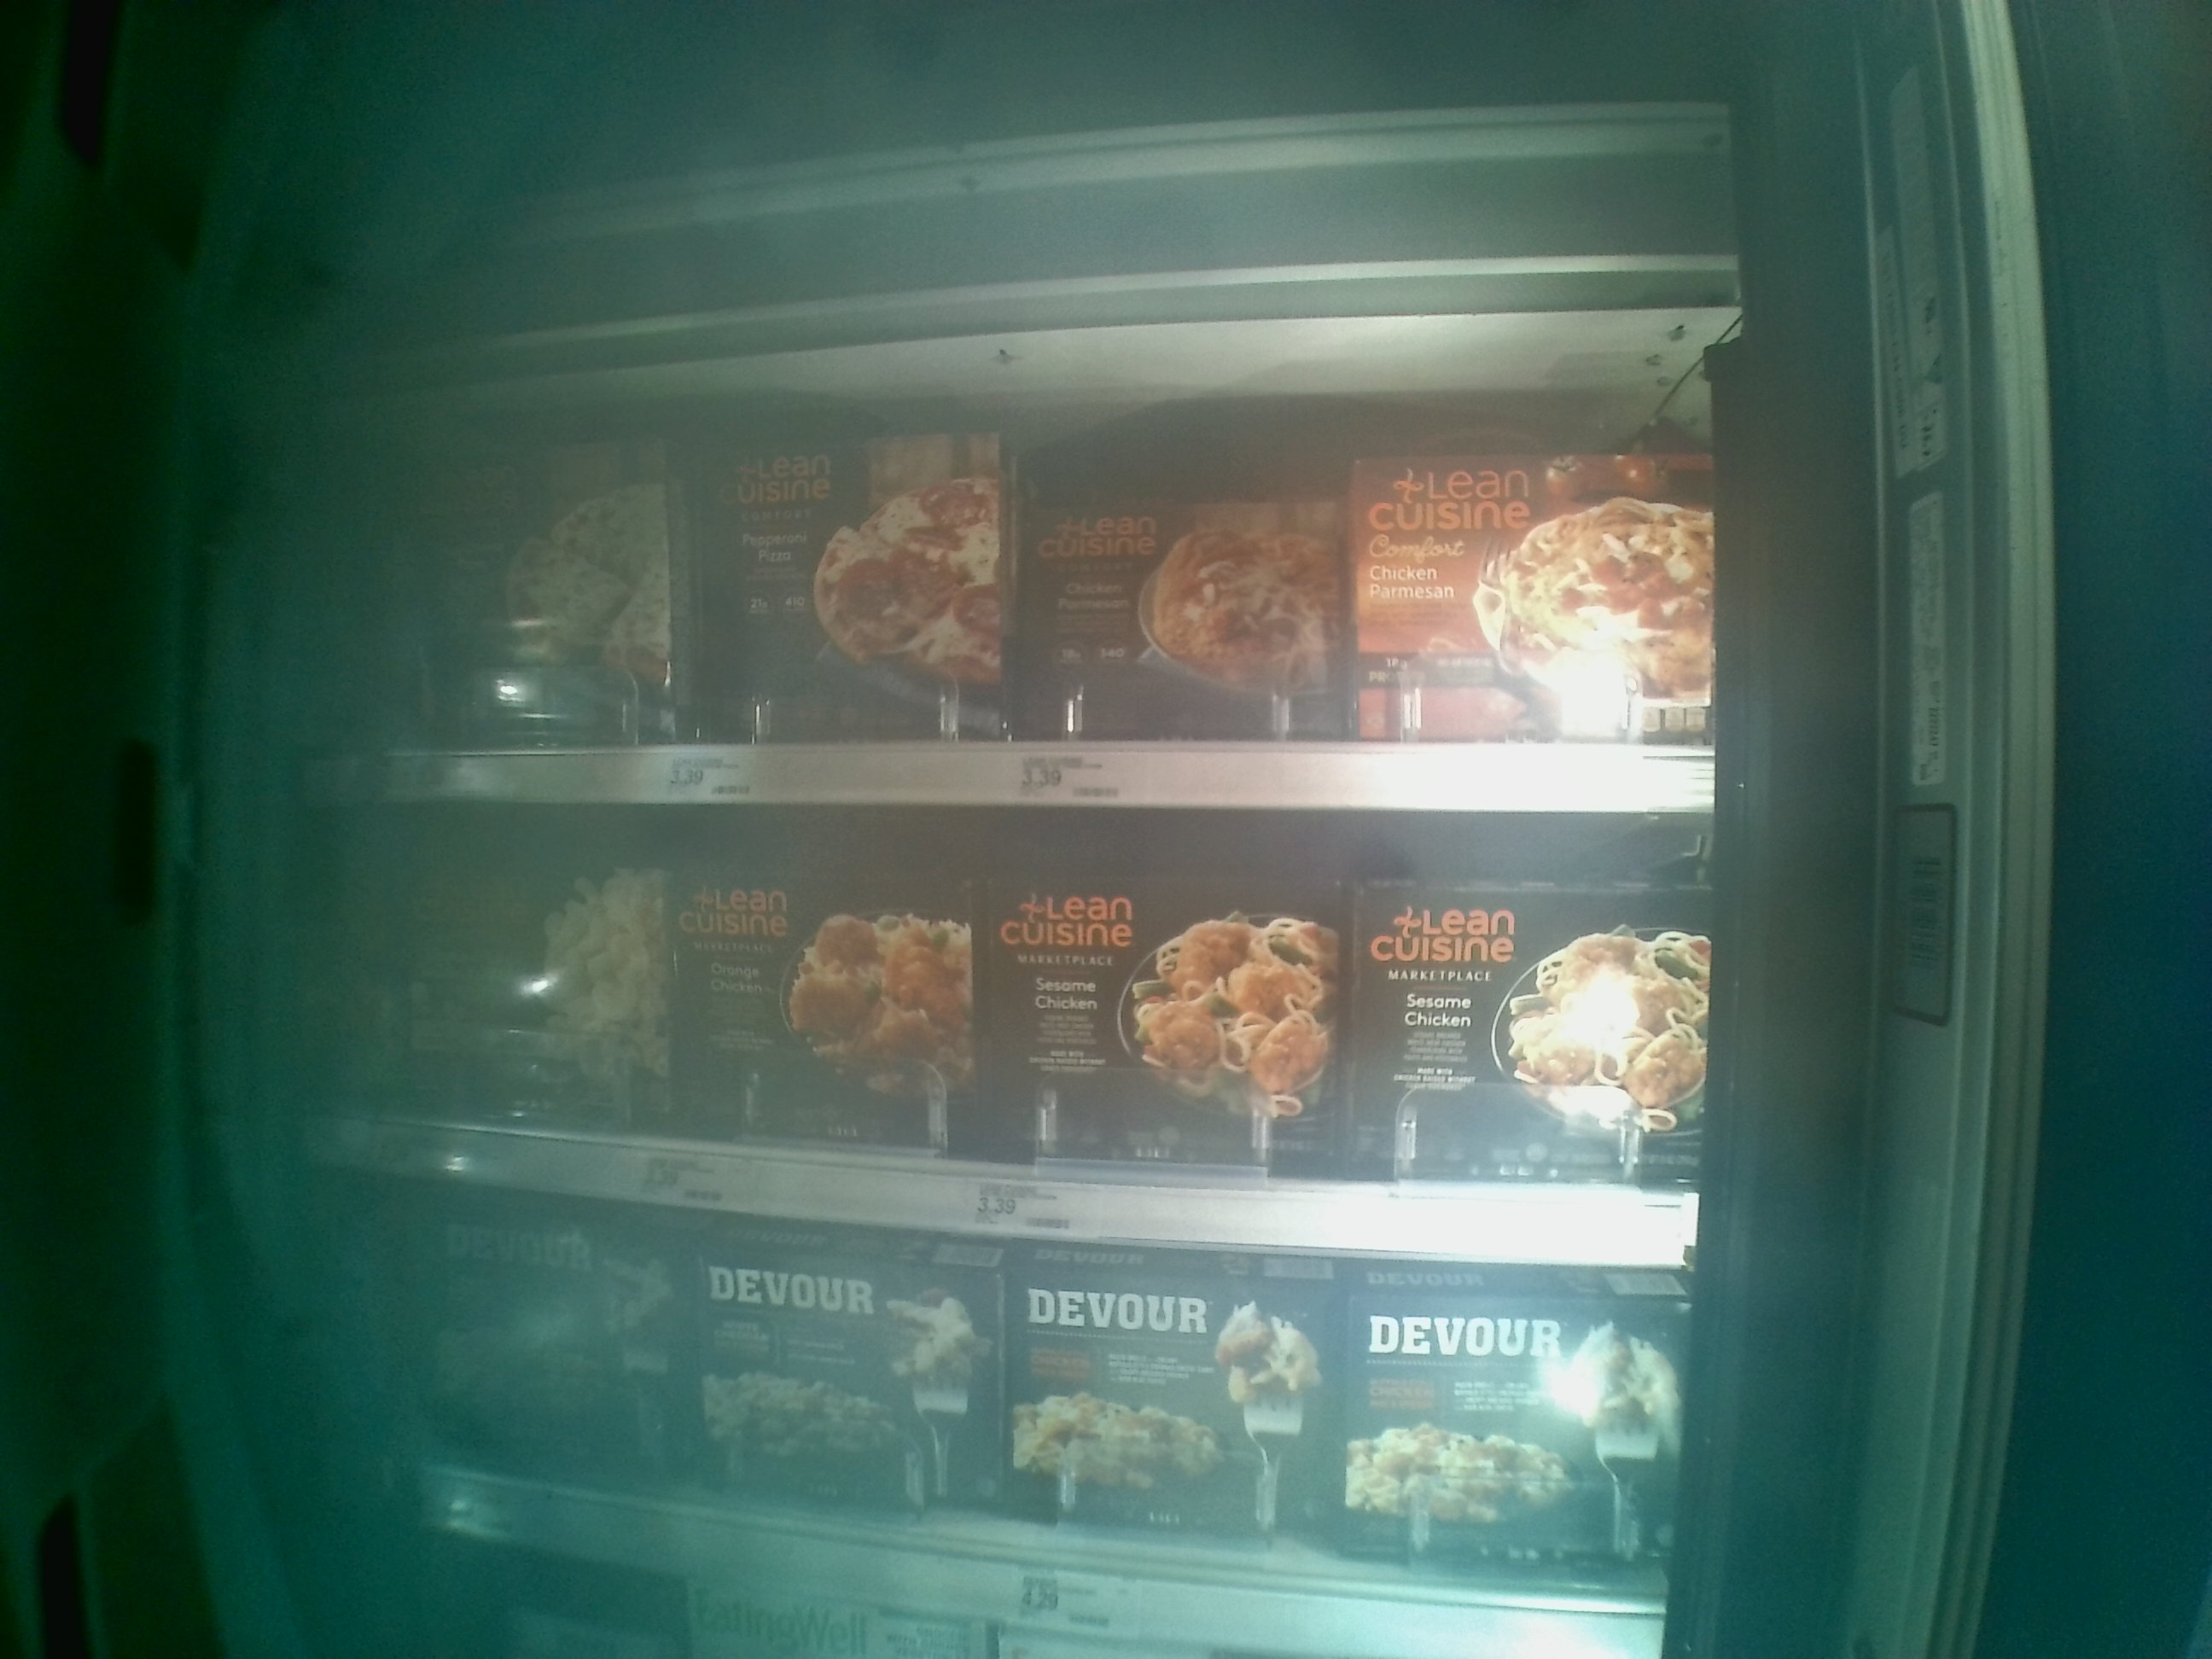pizza: (688, 411, 1019, 734), (1353, 875, 1703, 1171), (1359, 455, 1723, 732), (1000, 885, 1339, 1166), (1336, 1302, 1688, 1567), (681, 873, 998, 1145), (702, 1234, 1014, 1504), (1017, 1279, 1322, 1547), (415, 1201, 704, 1483), (402, 854, 691, 1121), (1033, 495, 1350, 728), (428, 446, 685, 728)
